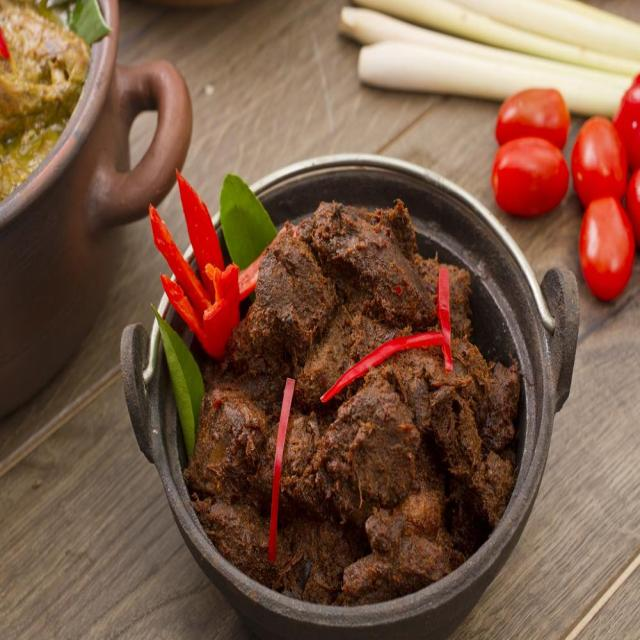Rendang: (197, 168, 526, 608)
